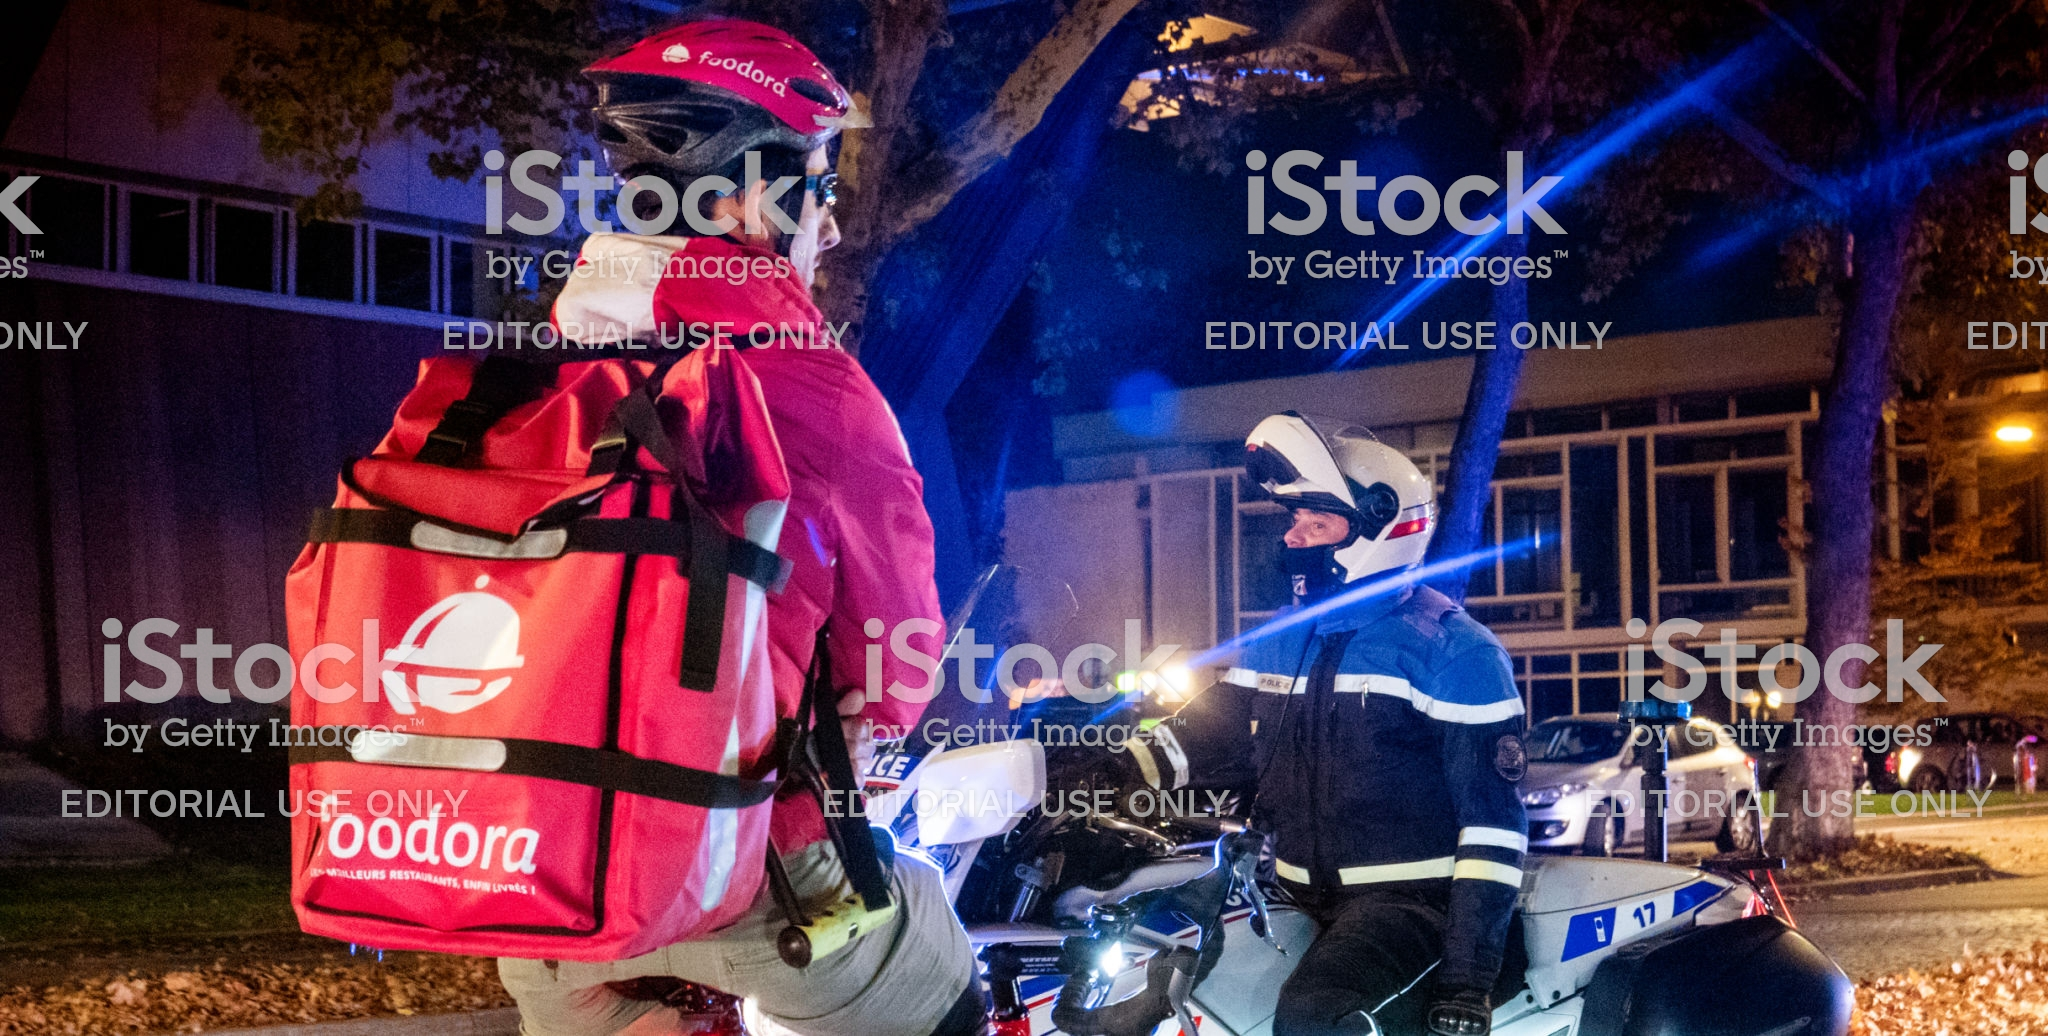helmet: (606, 40, 902, 207), (1249, 414, 1452, 600)
